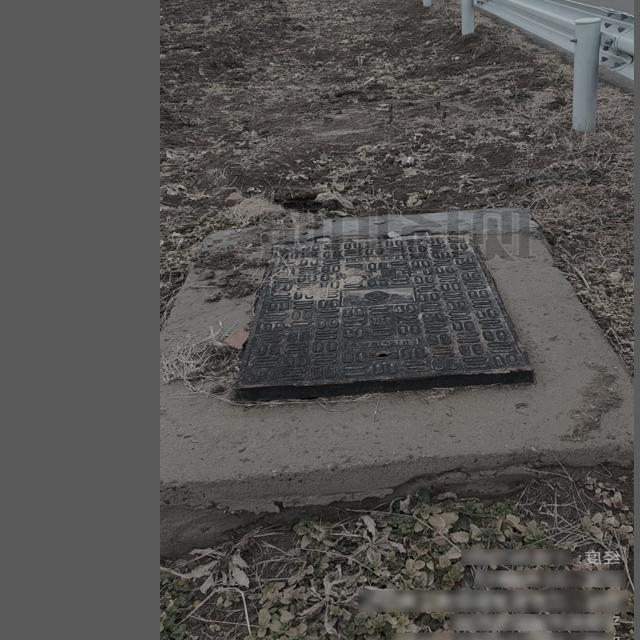good: (225, 227, 539, 401)
